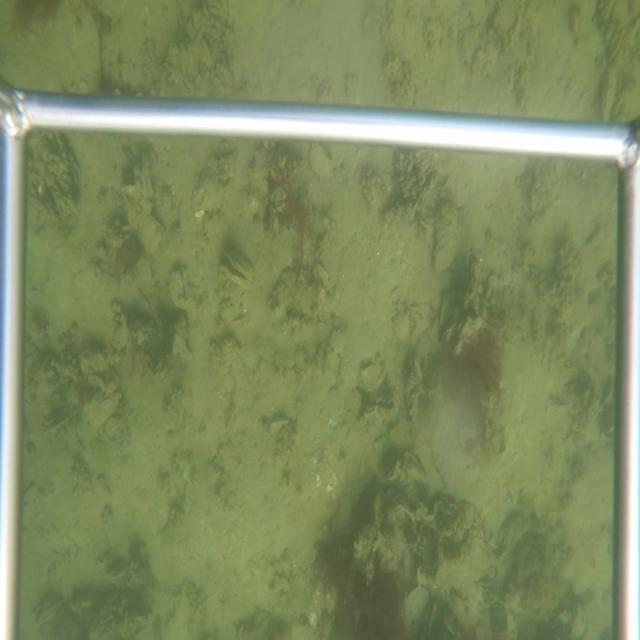Oyster-Closed: (601, 63, 618, 121)
Oyster-Indeterminate: (308, 143, 334, 179)
Oyster-Open: (216, 243, 255, 292), (418, 207, 434, 229)
